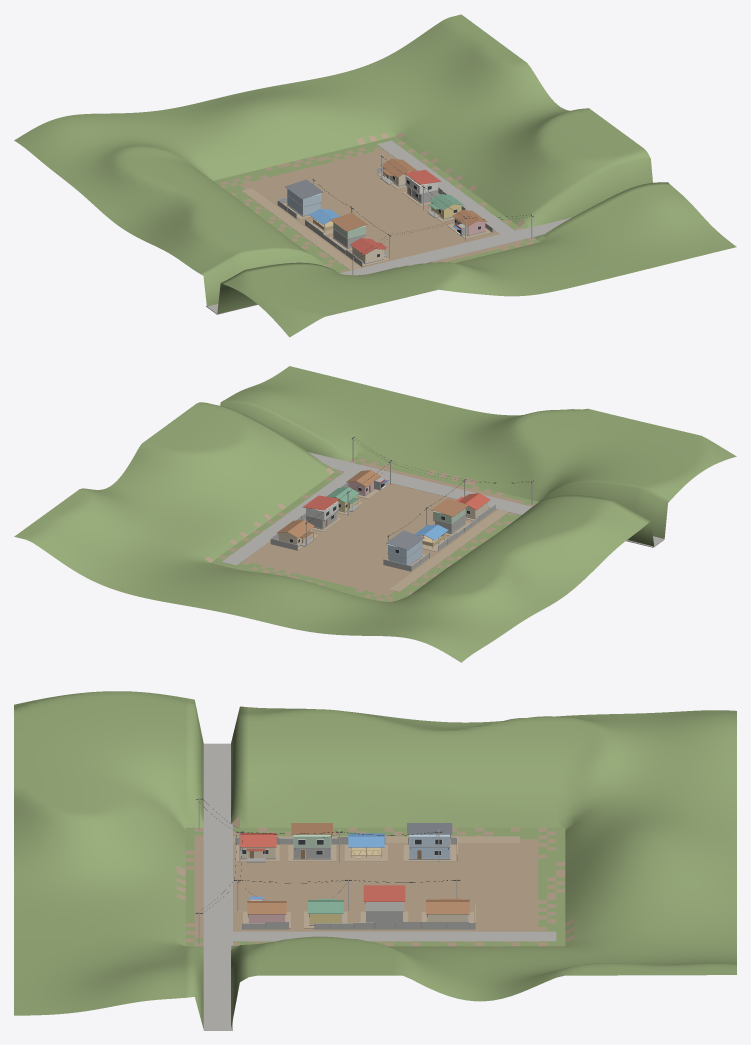
File: barangay_env.glb
The picture shows the model from 3 angles, top to bottom: view 1: azimuth 30°, elevation 25°; view 2: azimuth 150°, elevation 25°; view 3: azimuth 270°, elevation 25°; orthographic projection. The views are drawn at different scales.
Visible parts, largest first — view 1: Terrain, Road_Main, Road_Side, Path_Alley_L, House_L4, House_R3, House_L2, House_L1, Fences_CHB, House_R4, House_R1, House_R2; view 2: Terrain, Road_Main, Road_Side, Path_Alley_L, House_L4, Fences_CHB, House_R3, House_L2, House_R4, House_R1, House_R2, House_L1; view 3: Terrain, Road_Main, Road_Side, Fences_CHB, House_L4, House_R3, House_L2, House_L1, House_R4, House_R1, House_R2, House_L3 (+1 smaller).
Part boxes in pixels (box(x1,y1,x2,y2)): Terrain: box(14, 14, 736, 337); Road_Main: box(206, 217, 571, 314); Road_Side: box(377, 140, 514, 234); Path_Alley_L: box(241, 188, 360, 270); House_L4: box(285, 179, 323, 216); House_R3: box(404, 169, 441, 203); House_L2: box(330, 212, 367, 248); House_L1: box(350, 238, 386, 264); Fences_CHB: box(277, 167, 493, 267); House_R4: box(380, 158, 417, 186); House_R1: box(452, 210, 487, 236); House_R2: box(428, 194, 463, 219); Terrain: box(14, 366, 736, 662); Road_Main: box(308, 452, 664, 547); Road_Side: box(222, 472, 355, 565); Path_Alley_L: box(389, 509, 508, 591); House_L4: box(386, 530, 424, 565); Fences_CHB: box(270, 482, 495, 571); House_R3: box(303, 495, 339, 529); House_L2: box(432, 498, 468, 534); House_R4: box(276, 519, 314, 546); House_R1: box(346, 470, 389, 496); House_R2: box(327, 487, 359, 512); House_L1: box(456, 493, 490, 519); Terrain: box(14, 691, 736, 1028); Road_Main: box(203, 743, 232, 1030); Road_Side: box(233, 931, 556, 941); Fences_CHB: box(235, 836, 475, 929); House_L4: box(407, 823, 452, 859); House_R3: box(363, 885, 405, 922); House_L2: box(291, 823, 332, 859); House_L1: box(240, 833, 276, 862); House_R4: box(426, 898, 469, 921); House_R1: box(247, 896, 286, 923); House_R2: box(308, 899, 343, 925); House_L3: box(348, 833, 384, 858).
Size of the model in its own units: 150 by 13.61 by 160.
